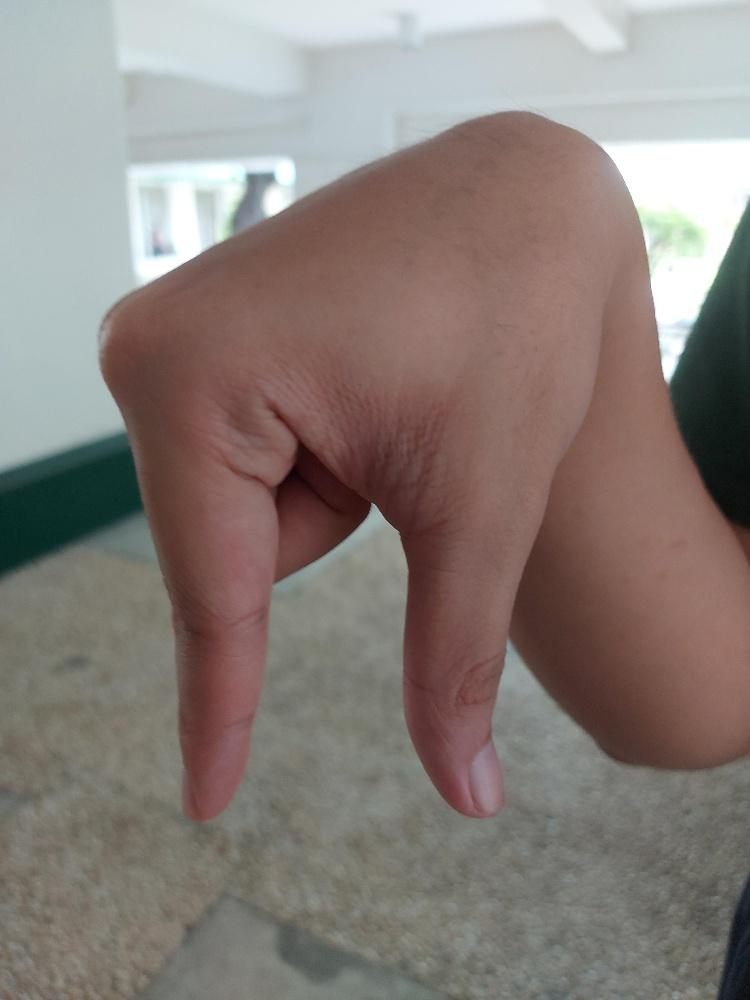q: (98, 105, 611, 823)
